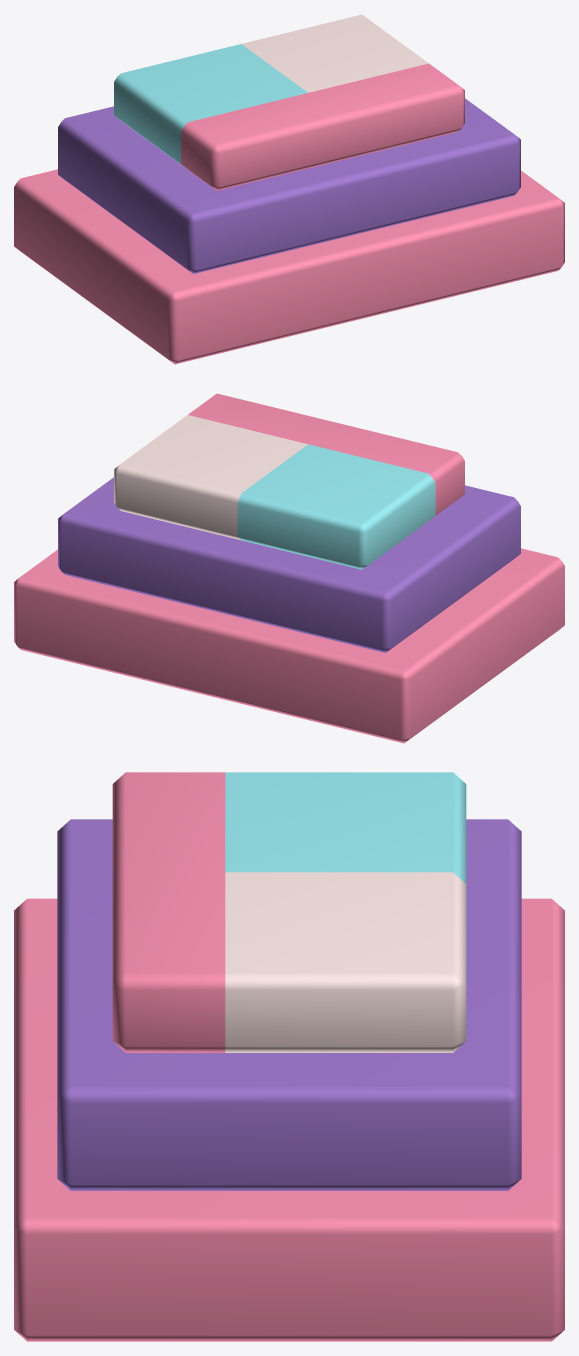
Rendered from Public_13_Towels_2.glb.
The picture shows the model from 3 angles, top to bottom: view 1: azimuth 30°, elevation 25°; view 2: azimuth 150°, elevation 25°; view 3: azimuth 270°, elevation 25°; orthographic projection. The views are drawn at different scales.
Parts seen in each view (by area): view 1: Public_13_Towels_2; view 2: Public_13_Towels_2; view 3: Public_13_Towels_2.
Part boxes in pixels (x1,y1,x2,y2): Public_13_Towels_2: [14, 14, 564, 364]; Public_13_Towels_2: [14, 393, 564, 743]; Public_13_Towels_2: [14, 772, 564, 1341].
Size of the model in its own units: 1.19 by 0.5236 by 0.8432.
1 material, 1 textured.
